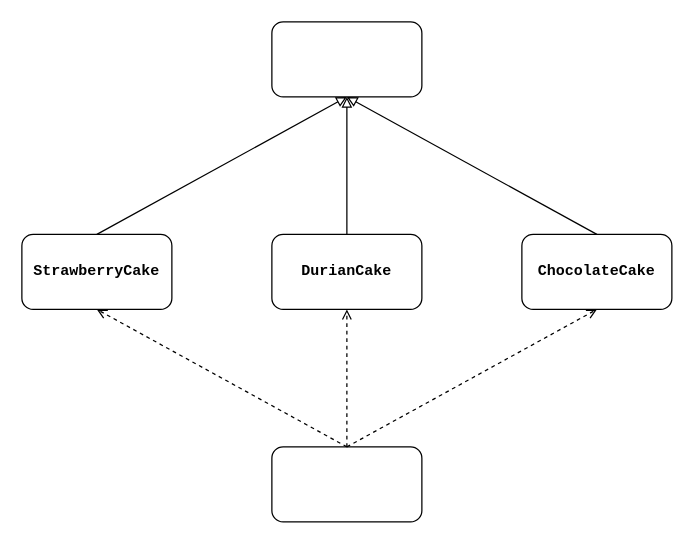
Some shapes in this 694 by 544 pixel diagram are drawn without their labels. The shapes that lost their labels are listed below. From the top down, each one's box as (x1, y1, x2, y2) in pixels, then its label:
(271, 21, 422, 97): Cake
(271, 446, 422, 522): CakeFactory
